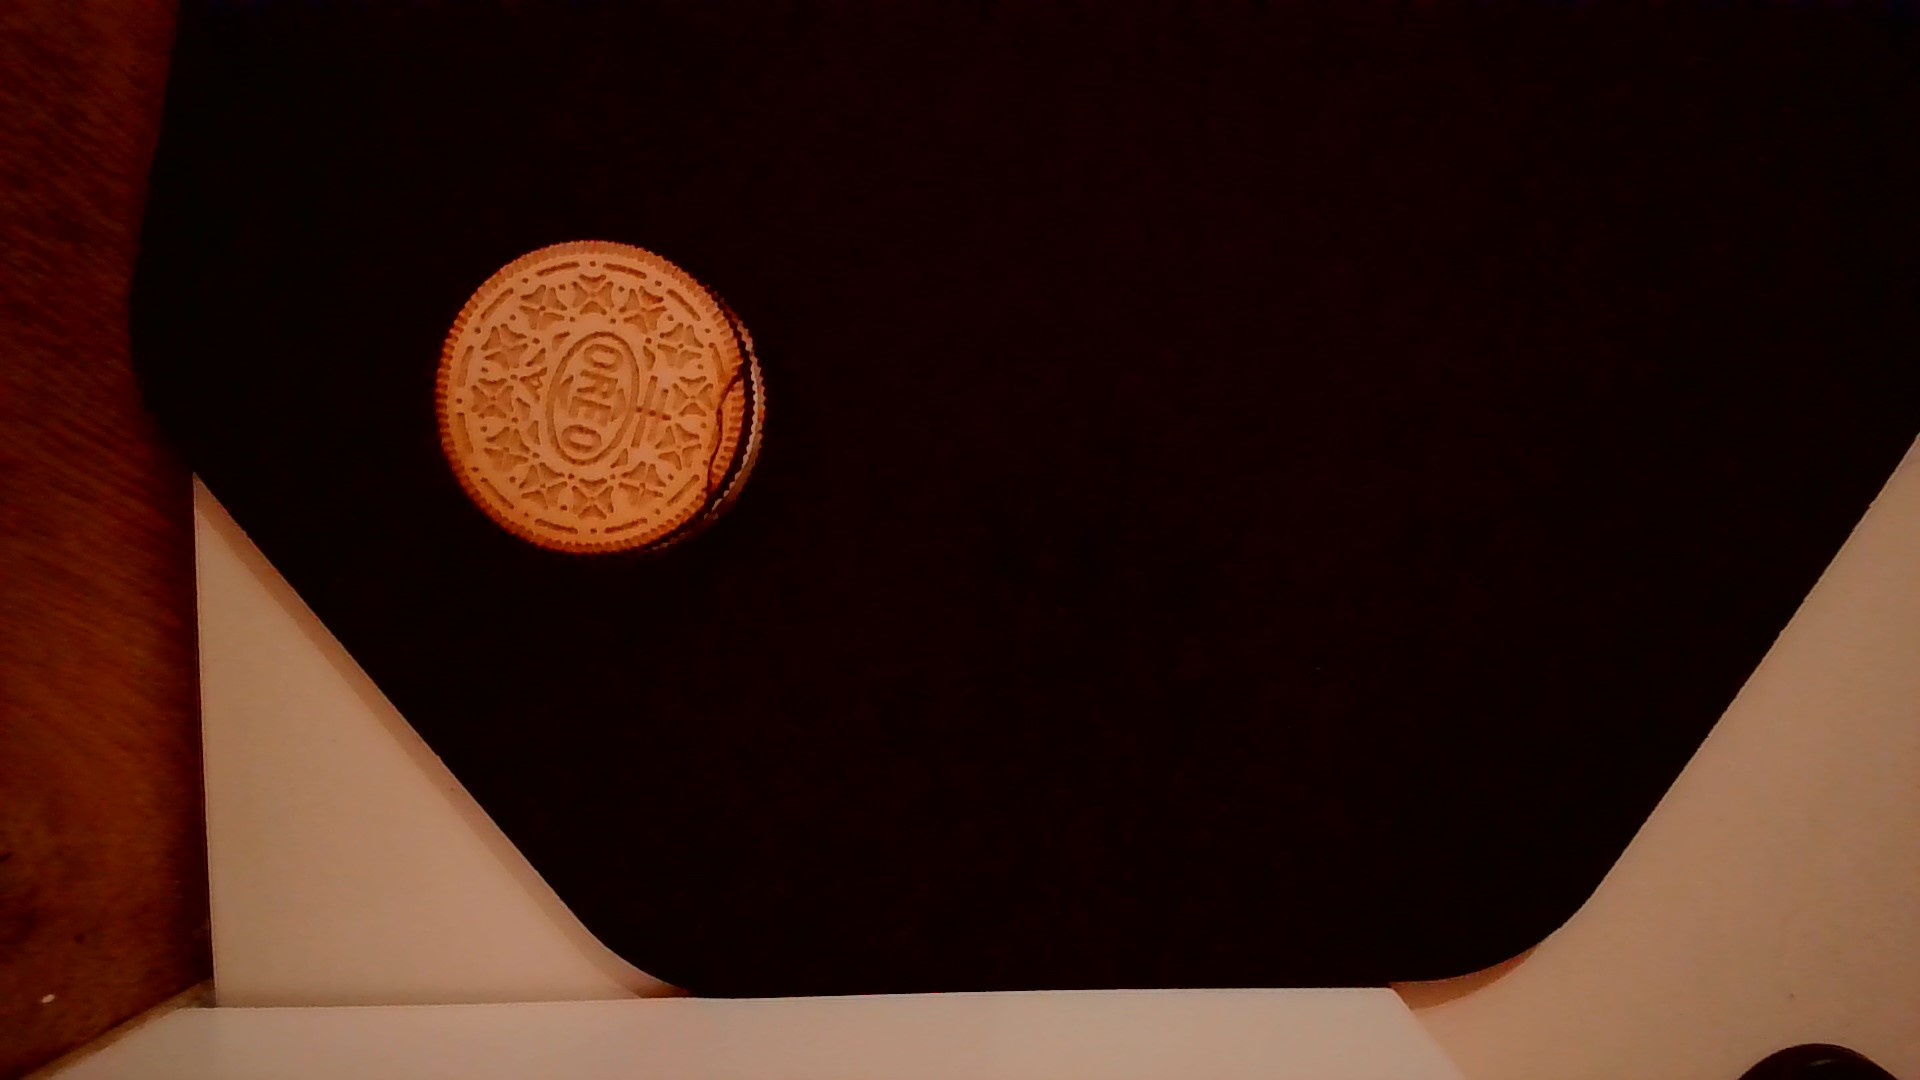Fissure: (690, 324, 765, 513)
Oréo: (425, 229, 767, 563)
